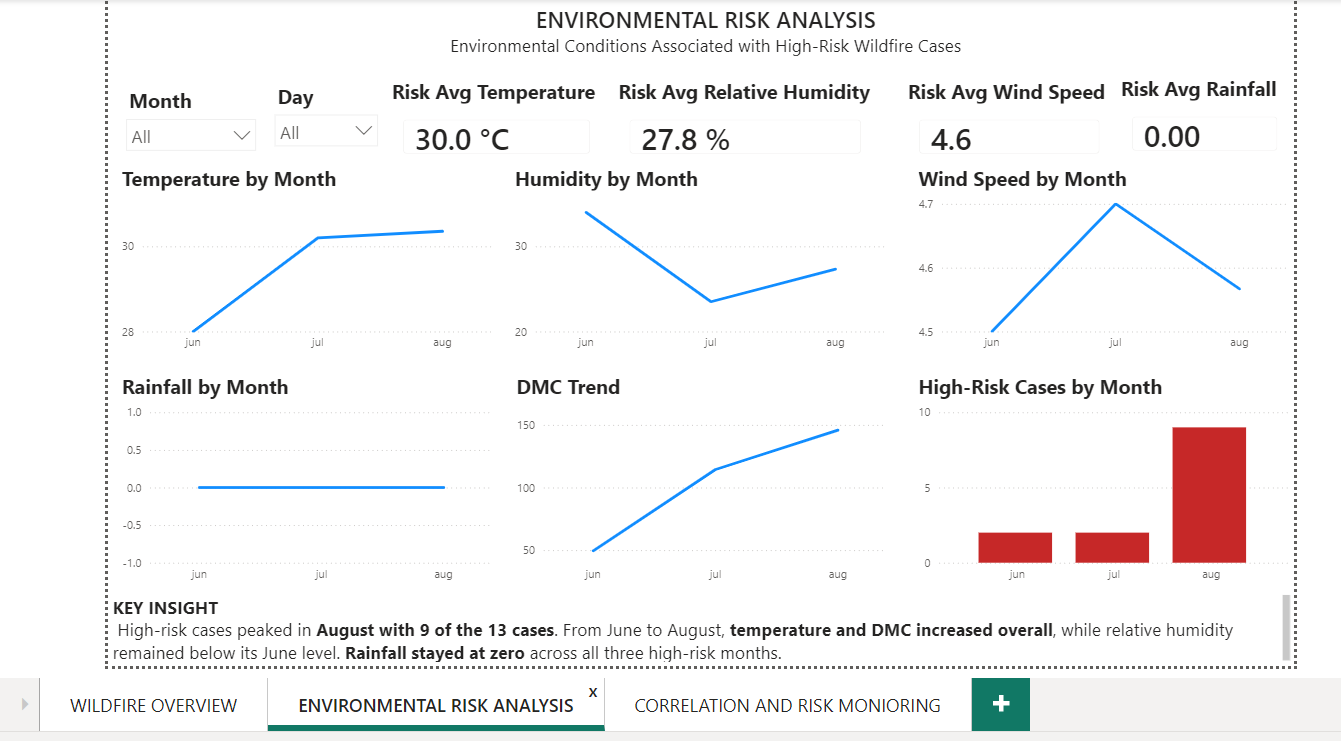

Layout of this report page (visuals, bound fields, positions):
{"tool":"powerbi","page":{"name":"ENVIRONMENTAL RISK ANALYSIS","canvas":[1280,720],"ordinal":1},"visuals":[{"type":"textbox","box":[9.7,0,1271.1,66.4],"z":0},{"type":"lineChart","title":"Temperature by Month","fields":{"Category":["df_cleaned.Month Display"],"Y":["Avg(df_cleaned.temp)"]},"box":[9.7,178.1,410,210.5],"z":1000},{"type":"lineChart","title":"Humidity by Month","fields":{"Category":["df_cleaned.Month Display"],"Y":["Avg(df_cleaned.RH)"]},"box":[434,178.1,410,210.5],"z":2000},{"type":"lineChart","title":"Wind Speed by Month","fields":{"Category":["df_cleaned.Month"],"Y":["Avg(df_cleaned.wind)"]},"box":[869.5,178.1,410,210.5],"z":3000},{"type":"lineChart","title":"Rainfall by Month","fields":{"Y":["Avg(df_cleaned.rain)"],"Category":["df_cleaned.Month"]},"box":[9.7,403.2,410,235],"z":4000},{"type":"lineChart","title":"DMC Trend","fields":{"Y":["Avg(df_cleaned.DMC)"],"Category":["df_cleaned.Month"]},"box":[435.6,403.2,410,235],"z":5000},{"type":"clusteredColumnChart","title":"High-Risk Cases by Month","fields":{"Y":["CountNonNull(df_cleaned.high_risk)"],"Category":["df_cleaned.Month"]},"box":[869.5,403.2,410,235],"z":6000},{"type":"slicer","fields":{"Values":["df_cleaned.Month"]},"box":[9.7,89.1,160,93],"z":7000},{"type":"slicer","fields":{"Values":["df_cleaned.day"]},"box":[170,84.2,131.2,93.9],"z":8000},{"type":"cardVisual","title":"Risk Avg Temperature","fields":{"Data":["MonthTable.Average Temperature Display"]},"box":[301.2,84.2,236.4,100.4],"z":9000},{"type":"cardVisual","title":"Risk Avg Relative Humidity","fields":{"Data":["MonthTable.Average Humidity Display"]},"box":[545.7,84.2,285,100.4],"z":10000},{"type":"cardVisual","title":"Risk Avg Wind Speed","fields":{"Data":["Avg(df_cleaned.wind)"]},"box":[858.2,84.2,229.9,100.4],"z":11000},{"type":"cardVisual","title":"Risk Avg Rainfall","fields":{"Data":["Avg(df_cleaned.rain)"]},"box":[1088.1,81,191.1,100.4],"z":12000},{"type":"textbox","box":[0,638,1280.8,82.6],"z":13000}]}

Visuals, with their boxes on the page's 1280x720 design canvas (x1, y1, x2, y2). These are canvas units, not pixel positions in the 1341x741 screenshot, which may show the page scaled, cropped or inside an application window:
textbox: (10,0,1281,66)
"Temperature by Month" lineChart: (10,178,420,389)
"Humidity by Month" lineChart: (434,178,844,389)
"Wind Speed by Month" lineChart: (870,178,1280,389)
"Rainfall by Month" lineChart: (10,403,420,638)
"DMC Trend" lineChart: (436,403,846,638)
"High-Risk Cases by Month" clusteredColumnChart: (870,403,1280,638)
slicer - df_cleaned.Month: (10,89,170,182)
slicer - df_cleaned.day: (170,84,301,178)
"Risk Avg Temperature" cardVisual: (301,84,538,185)
"Risk Avg Relative Humidity" cardVisual: (546,84,831,185)
"Risk Avg Wind Speed" cardVisual: (858,84,1088,185)
"Risk Avg Rainfall" cardVisual: (1088,81,1279,181)
textbox: (0,638,1281,721)
